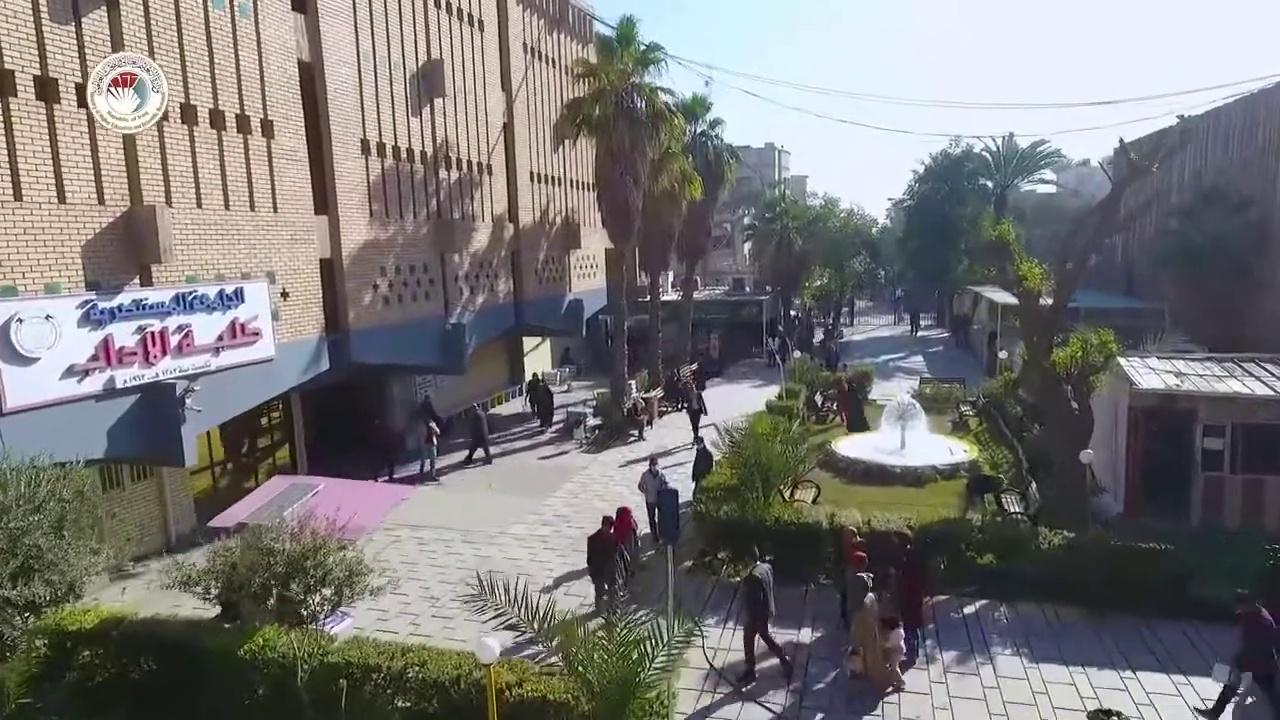fountain: (821, 387, 978, 485)
person: (1191, 587, 1279, 719), (733, 543, 794, 686), (890, 528, 929, 668), (840, 576, 889, 684), (835, 525, 869, 631), (585, 514, 620, 614), (637, 455, 668, 543), (415, 401, 442, 481), (461, 403, 492, 465), (612, 505, 638, 578), (690, 435, 713, 505), (534, 375, 554, 432), (524, 372, 540, 418)
tree: (963, 136, 1161, 534), (454, 566, 713, 718), (888, 130, 1068, 328), (583, 28, 663, 424), (162, 503, 389, 631), (689, 399, 833, 580), (741, 182, 881, 366), (0, 445, 114, 661), (632, 95, 708, 396), (666, 90, 740, 369), (804, 200, 879, 341), (961, 130, 1067, 221)
